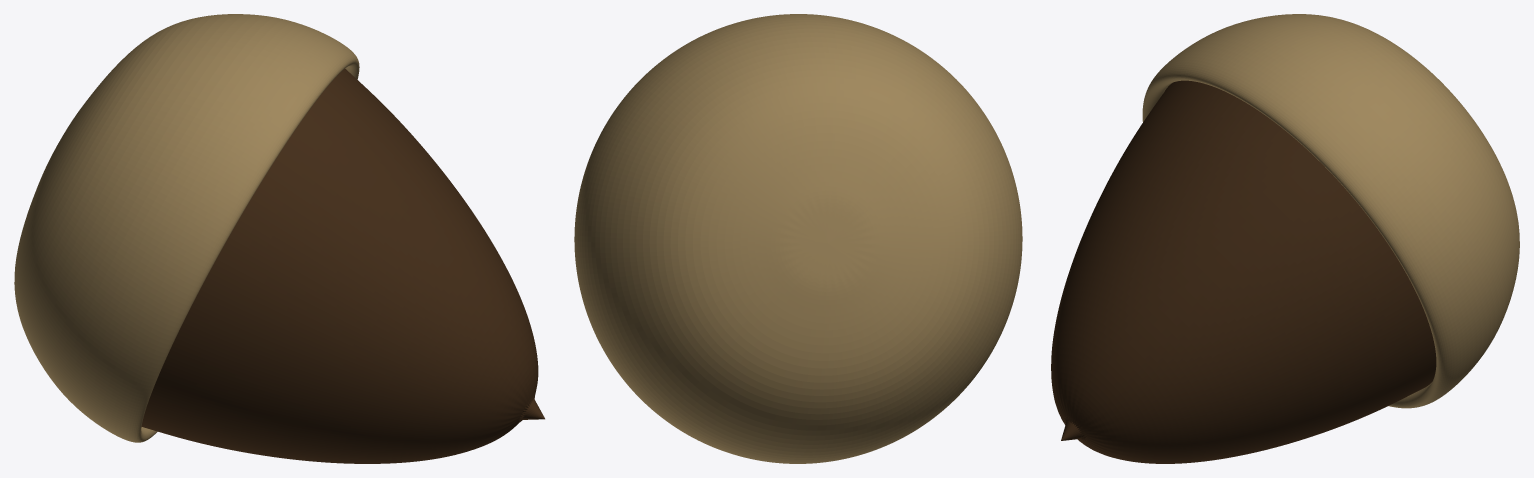
File: Acorn.fbx
3 views of the same model, side by side, from view 1: azimuth 30°, elevation 25°; view 2: azimuth 150°, elevation 25°; view 3: azimuth 270°, elevation 25° (orthographic). The views are drawn at different scales.
Visible parts, largest first — view 1: donguri4; view 2: donguri4; view 3: donguri4.
Boxes of the visible parts, x1,y1,x2,y2 form: donguri4: (14,14,544,463); donguri4: (574,14,1022,463); donguri4: (1051,14,1519,463).
Bounding box in the file's own units: 218 × 204 × 229.
